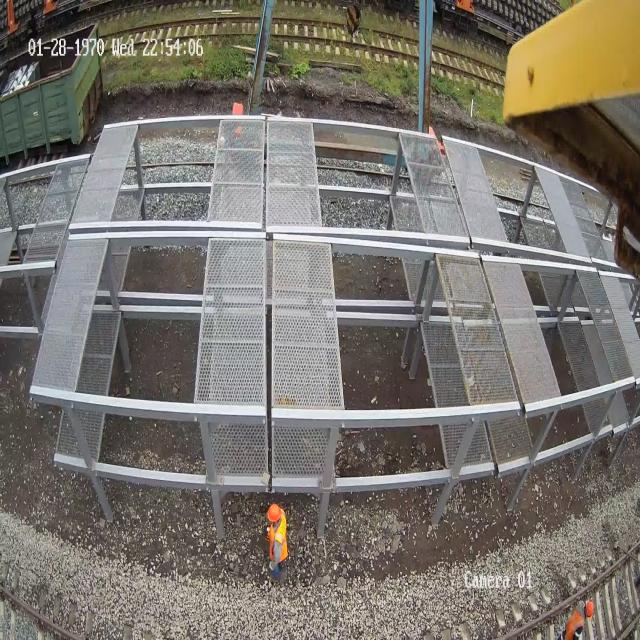Helmet: (267, 503, 281, 522), (586, 600, 594, 617)
Person: (265, 502, 289, 579), (561, 599, 594, 640)
